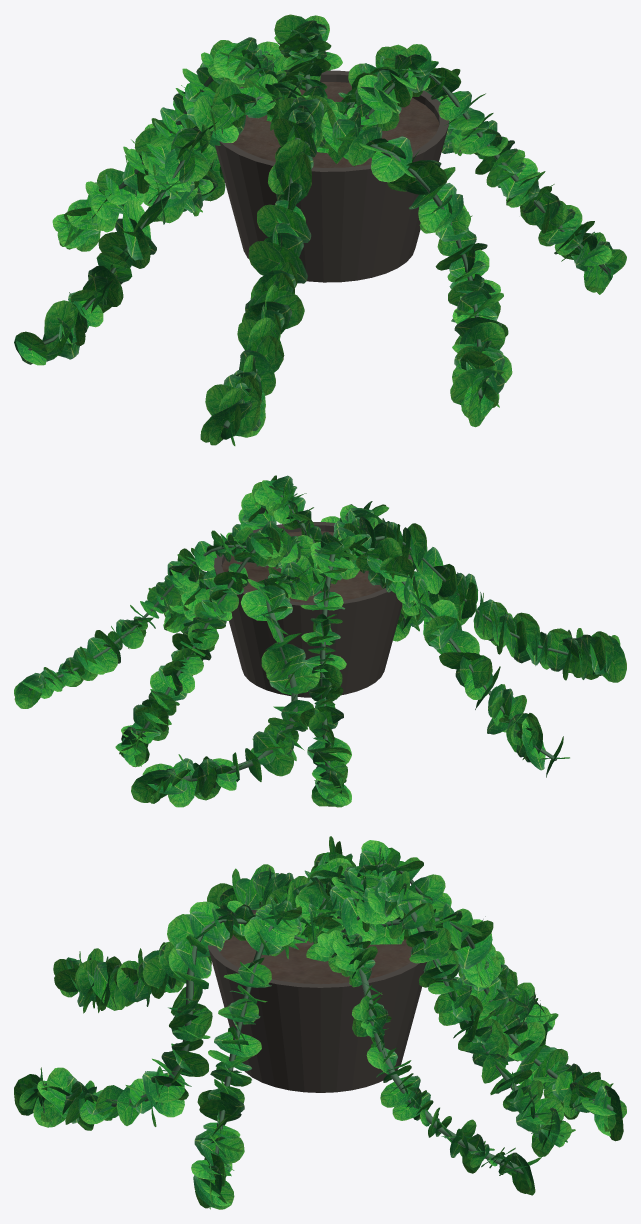
Rendered from Plant.fbx.
The picture shows the model from 3 angles, top to bottom: view 1: azimuth 30°, elevation 25°; view 2: azimuth 150°, elevation 25°; view 3: azimuth 270°, elevation 25°; orthographic projection. The views are drawn at different scales.
Parts seen in each view (by area): view 1: Cylinder.003, BézierCurve.007|Plane.001|Dupli|55, BézierCurve.007|Plane.001|Dupli|52, BézierCurve.002|Plane.001|Dupli|54, BézierCurve.002|Plane.001|Dupli|56, BézierCurve|Plane.001|Dupli|46, BézierCurve.007|Plane.001|Dupli|5, BézierCurve|Plane.001|Dupli|55, BézierCurve.002|Plane.001|Dupli|4, BézierCurve.002|Plane.001|Dupli|13, BézierCurve.007|Plane.001|Dupli|58, BézierCurve.002|Plane.001|Dupli|44 (+15 smaller); view 2: Cylinder.003, BézierCurve.006|Plane.001|Dupli|64, BézierCurve.006|Plane.001|Dupli|55, BézierCurve.006|Plane.001|Dupli|56, BézierCurve.007|Plane.001|Dupli|10, BézierCurve|Plane.001|Dupli|56, BézierCurve.006, BézierCurve.006|Plane.001|Dupli|68, BézierCurve.007|Plane.001|Dupli|13, BézierCurve.006|Plane.001|Dupli|58, BézierCurve|Plane.001|Dupli|57, BézierCurve|Plane.001|Dupli|5 (+16 smaller); view 3: Cylinder.003, BézierCurve.001, BézierCurve.002|Plane.001|Dupli|55, BézierCurve.003|Plane.001|Dupli|74, BézierCurve.002, BézierCurve.002|Plane.001|Dupli|60, BézierCurve.002|Plane.001|Dupli|67, BézierCurve.002|Plane.001|Dupli|65, BézierCurve.002|Plane.001|Dupli|58, BézierCurve.003|Plane.001|Dupli|65, BézierCurve.001|Plane.001|Dupli|85, BézierCurve.006|Plane.001|Dupli|5 (+21 smaller).
Part boxes in pixels (bbox=[...]): Cylinder.003: bbox=[215, 70, 448, 282]; BézierCurve.007|Plane.001|Dupli|55: bbox=[248, 241, 307, 283]; BézierCurve.007|Plane.001|Dupli|52: bbox=[257, 204, 311, 242]; BézierCurve.002|Plane.001|Dupli|54: bbox=[371, 136, 412, 182]; BézierCurve.002|Plane.001|Dupli|56: bbox=[418, 183, 457, 232]; BézierCurve|Plane.001|Dupli|46: bbox=[44, 300, 81, 359]; BézierCurve.007|Plane.001|Dupli|5: bbox=[276, 154, 311, 203]; BézierCurve|Plane.001|Dupli|55: bbox=[122, 200, 151, 260]; BézierCurve.002|Plane.001|Dupli|4: bbox=[405, 162, 447, 194]; BézierCurve.002|Plane.001|Dupli|13: bbox=[459, 322, 505, 349]; BézierCurve.007|Plane.001|Dupli|58: bbox=[245, 290, 304, 328]; BézierCurve.002|Plane.001|Dupli|44: bbox=[450, 369, 504, 404]; Cylinder.003: bbox=[214, 522, 412, 697]; BézierCurve.006|Plane.001|Dupli|64: bbox=[253, 731, 293, 776]; BézierCurve.006|Plane.001|Dupli|55: bbox=[241, 590, 292, 620]; BézierCurve.006|Plane.001|Dupli|56: bbox=[261, 643, 305, 674]; BézierCurve.007|Plane.001|Dupli|10: bbox=[512, 612, 540, 663]; BézierCurve|Plane.001|Dupli|56: bbox=[423, 599, 457, 649]; BézierCurve.006: bbox=[154, 581, 314, 785]; BézierCurve.006|Plane.001|Dupli|68: bbox=[131, 769, 176, 802]; BézierCurve.007|Plane.001|Dupli|13: bbox=[547, 628, 572, 671]; BézierCurve.006|Plane.001|Dupli|58: bbox=[269, 663, 320, 695]; BézierCurve|Plane.001|Dupli|57: bbox=[436, 629, 479, 660]; BézierCurve|Plane.001|Dupli|5: bbox=[455, 655, 492, 688]; Cylinder.003: bbox=[207, 910, 426, 1092]; BézierCurve.001: bbox=[353, 957, 523, 1173]; BézierCurve.002|Plane.001|Dupli|55: bbox=[167, 914, 223, 957]; BézierCurve.003|Plane.001|Dupli|74: bbox=[194, 1128, 244, 1163]; BézierCurve.002: bbox=[65, 916, 305, 1106]; BézierCurve.002|Plane.001|Dupli|60: bbox=[161, 1050, 208, 1076]; BézierCurve.002|Plane.001|Dupli|67: bbox=[47, 1067, 79, 1123]; BézierCurve.002|Plane.001|Dupli|65: bbox=[142, 1071, 184, 1117]; BézierCurve.002|Plane.001|Dupli|58: bbox=[171, 1007, 212, 1041]; BézierCurve.003|Plane.001|Dupli|65: bbox=[214, 1032, 261, 1057]; BézierCurve.001|Plane.001|Dupli|85: bbox=[380, 1075, 420, 1107]; BézierCurve.006|Plane.001|Dupli|5: bbox=[454, 919, 492, 969].
Size of the model in its own units: 72.41 by 32.6 by 72.44.
3 materials, 3 textured.
